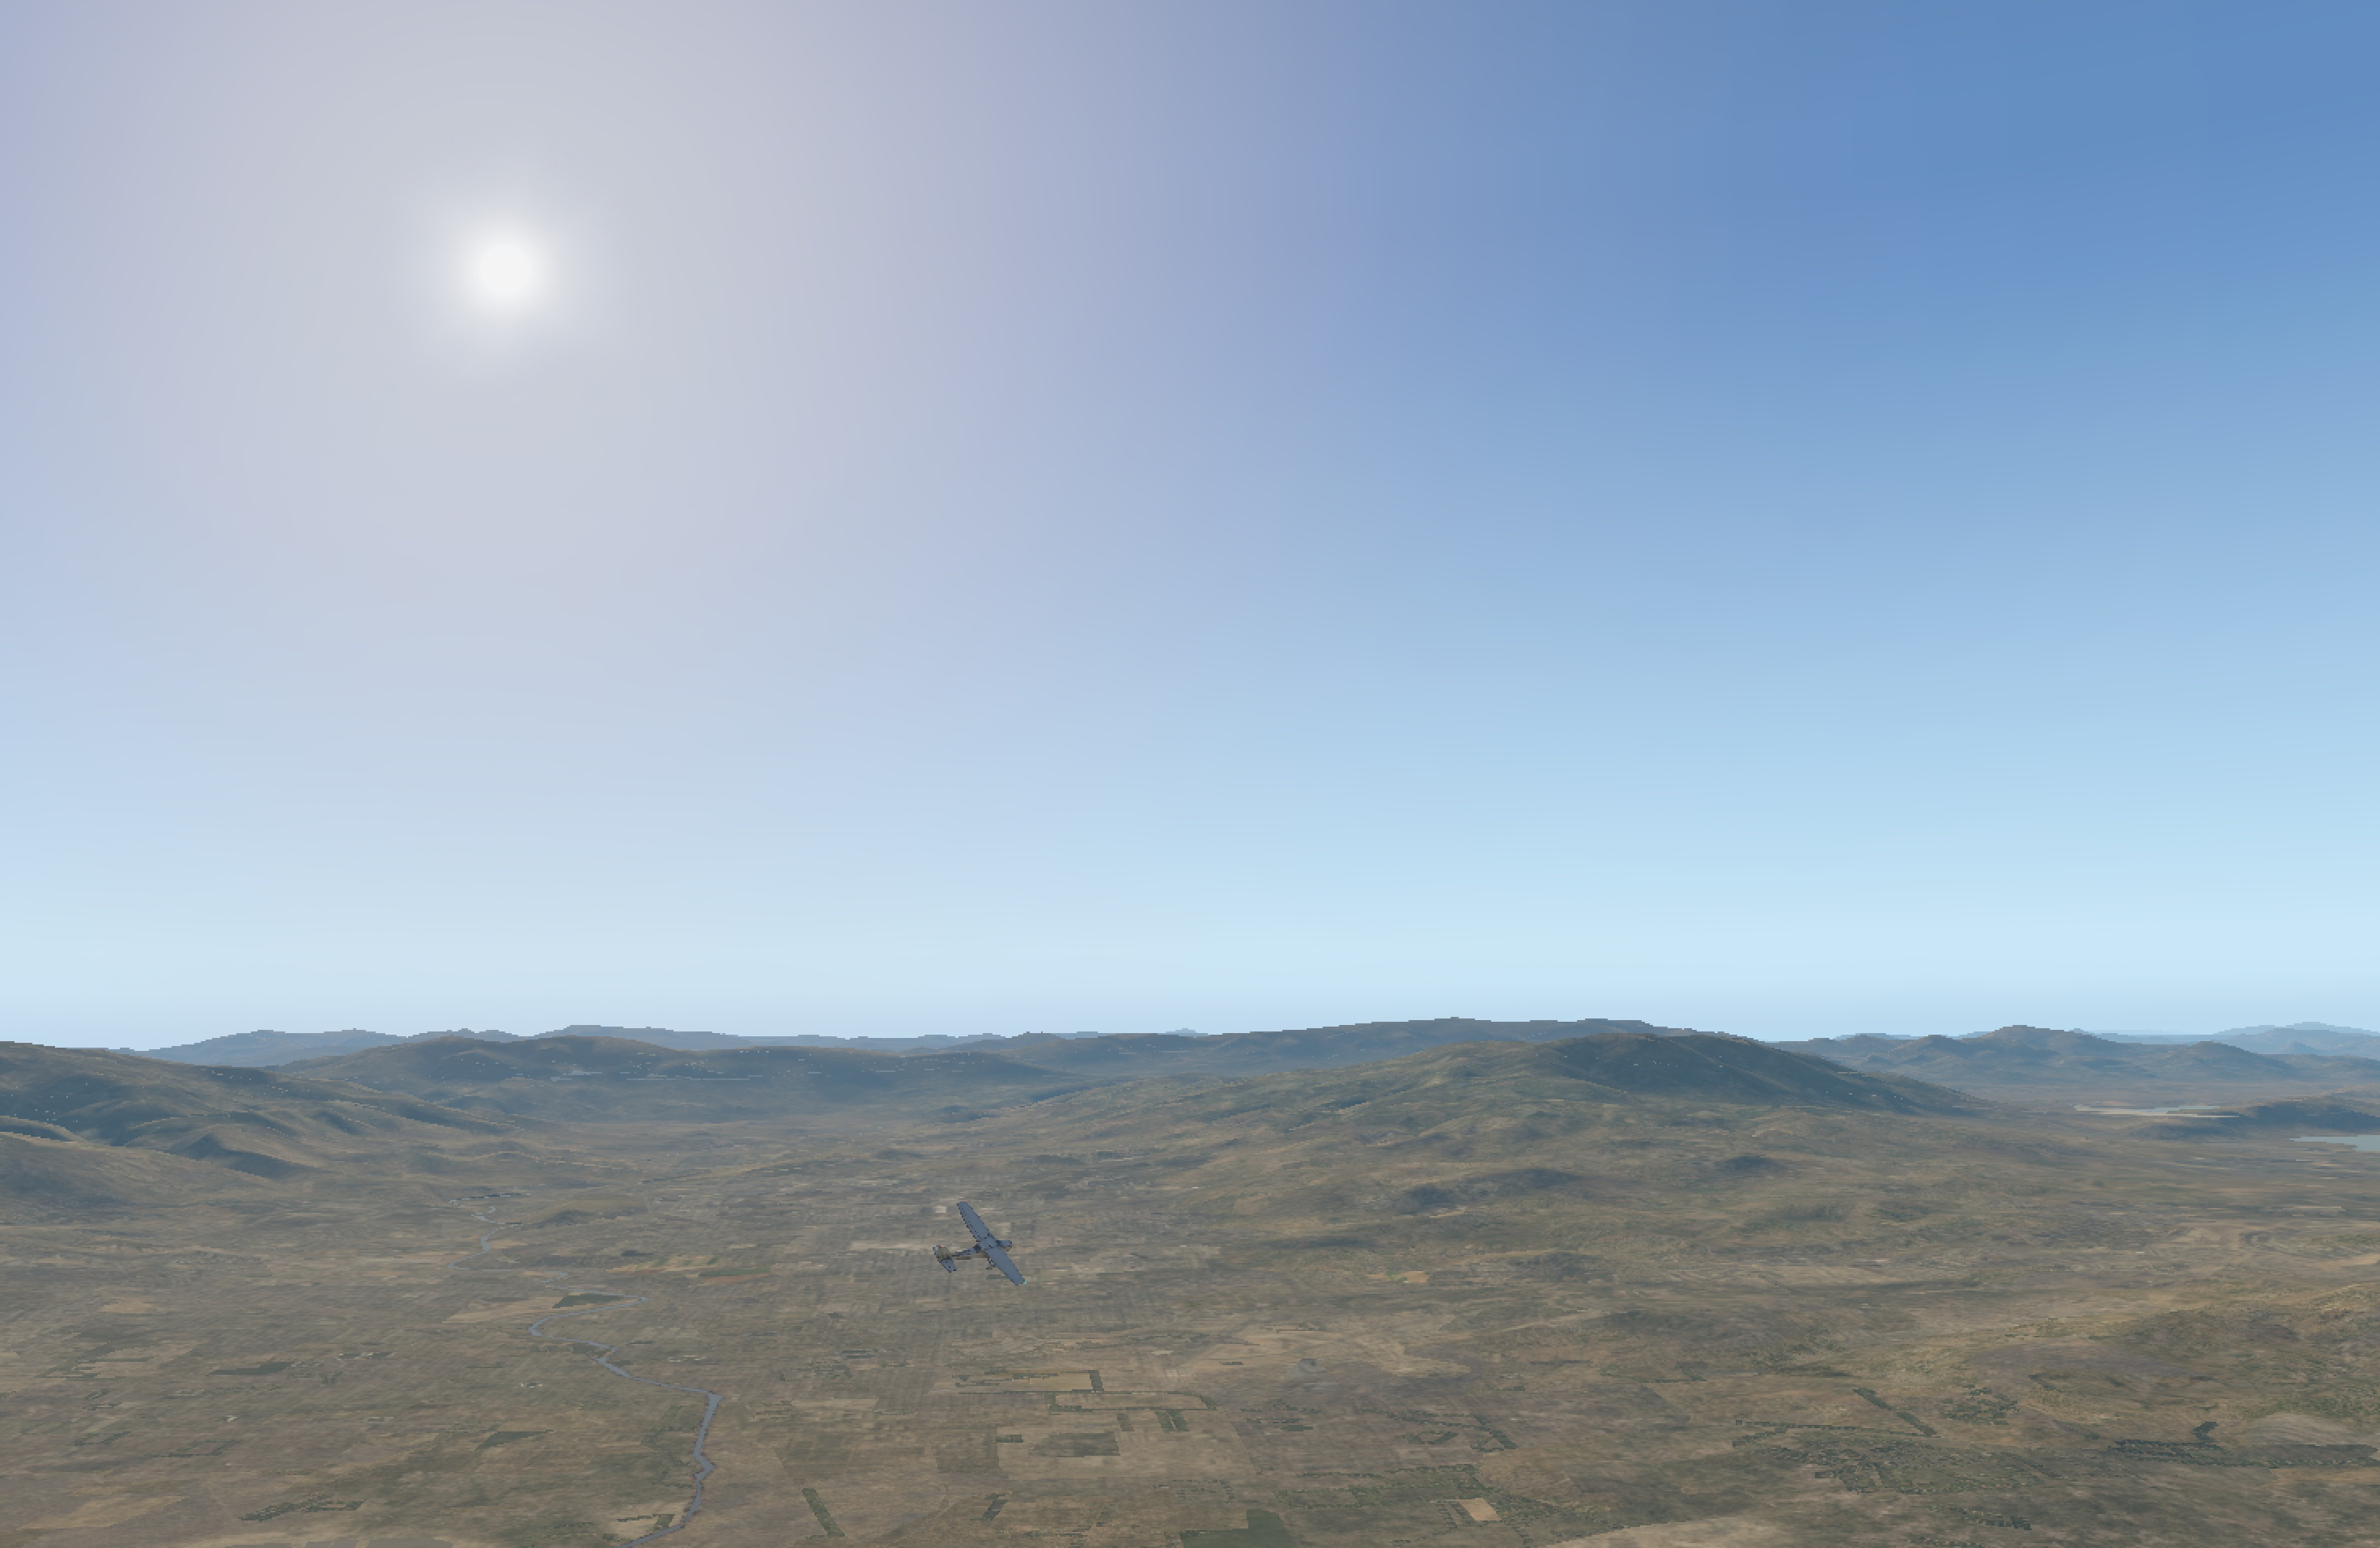aircraft: (947, 1230, 1034, 1263)
